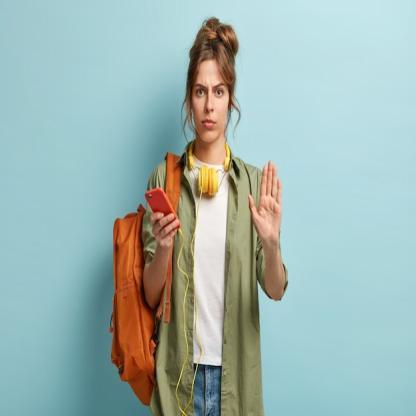stop: (246, 156, 286, 252)
